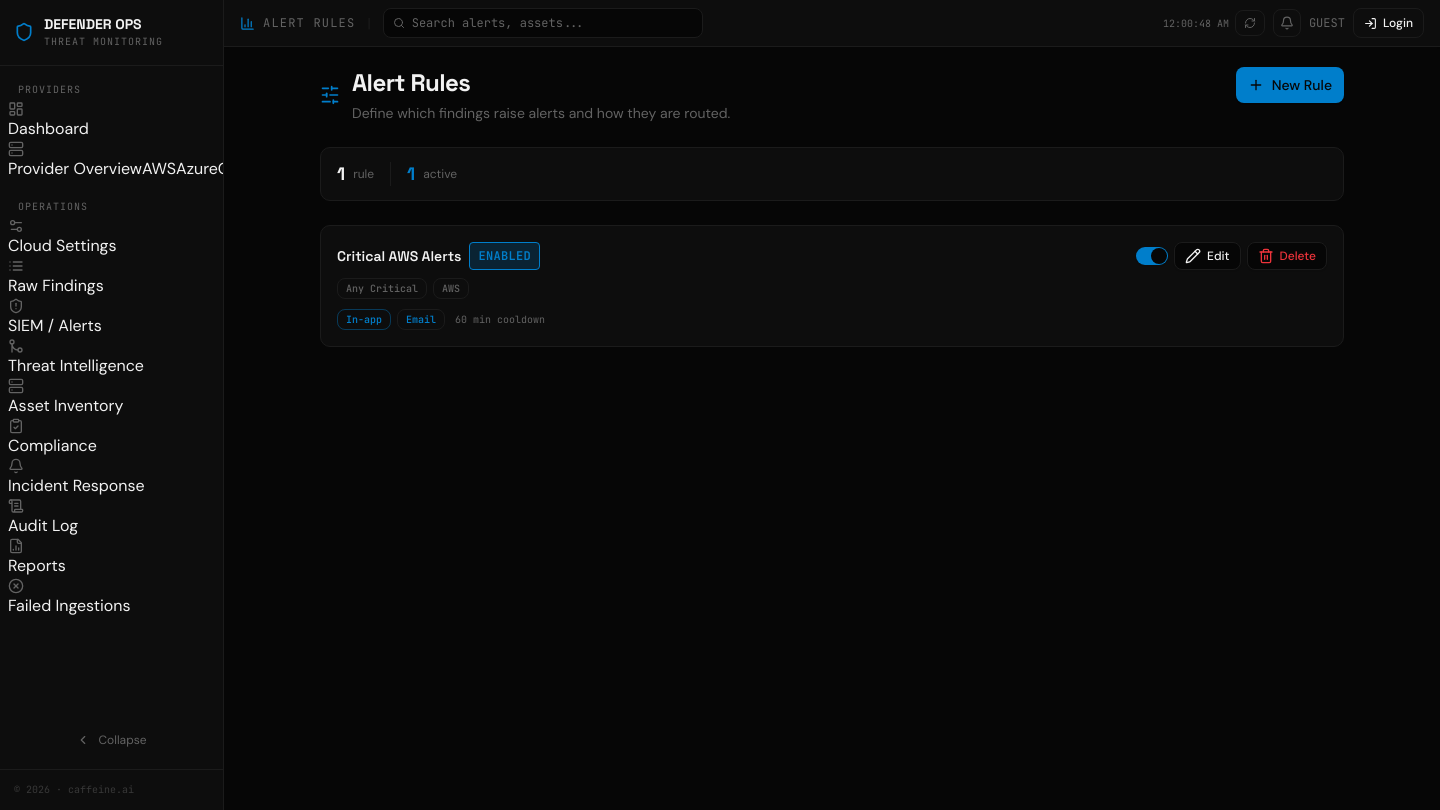
Test: AlertRulesPage rule builder (cover) › requires a name before saving a rule
Click the button with test id "alert_rules.create_button": (1290, 85) [1236,67,1344,103]
(page scrolled)
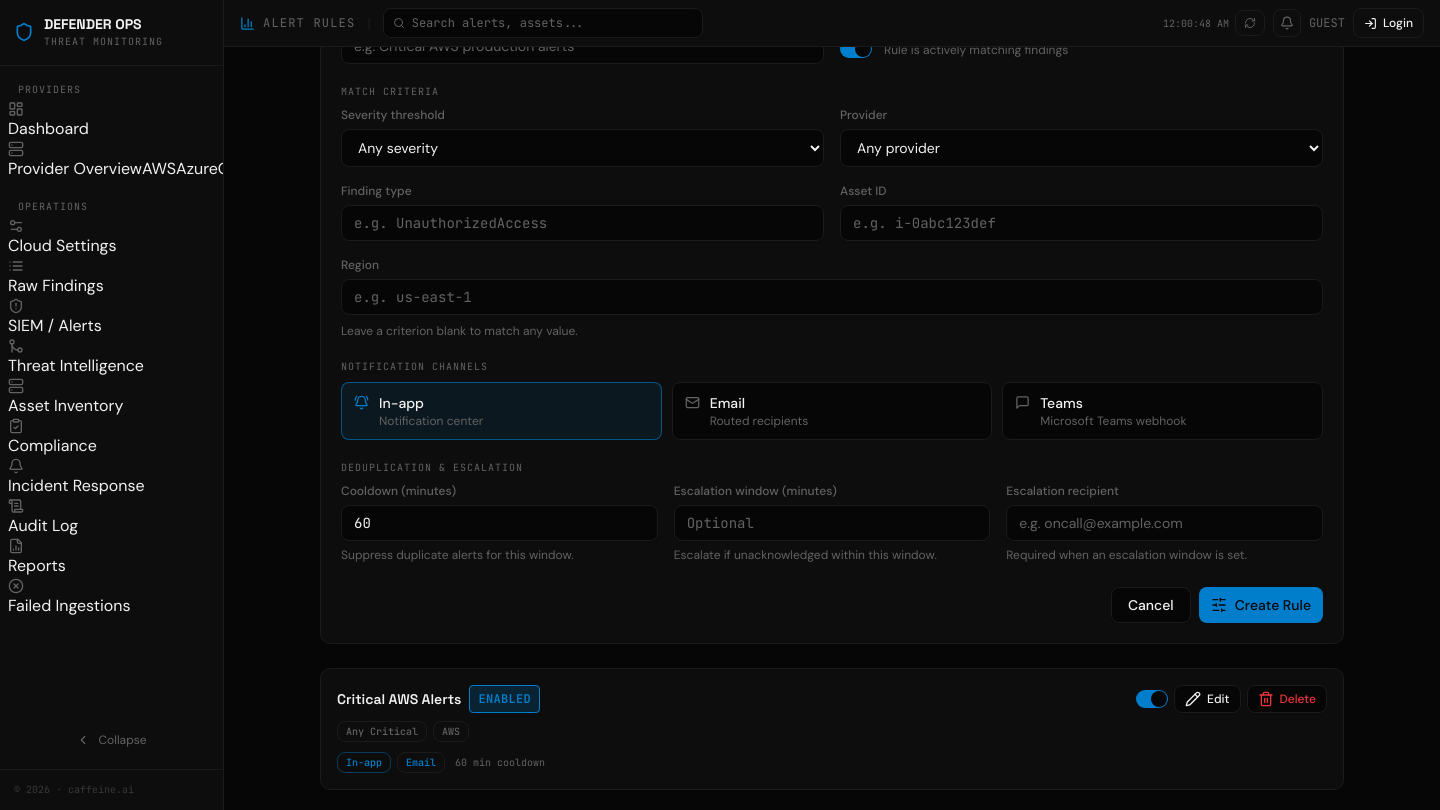
Click the button with test id "alert_rules.form.submit_button": (1261, 605) [1199,587,1323,623]
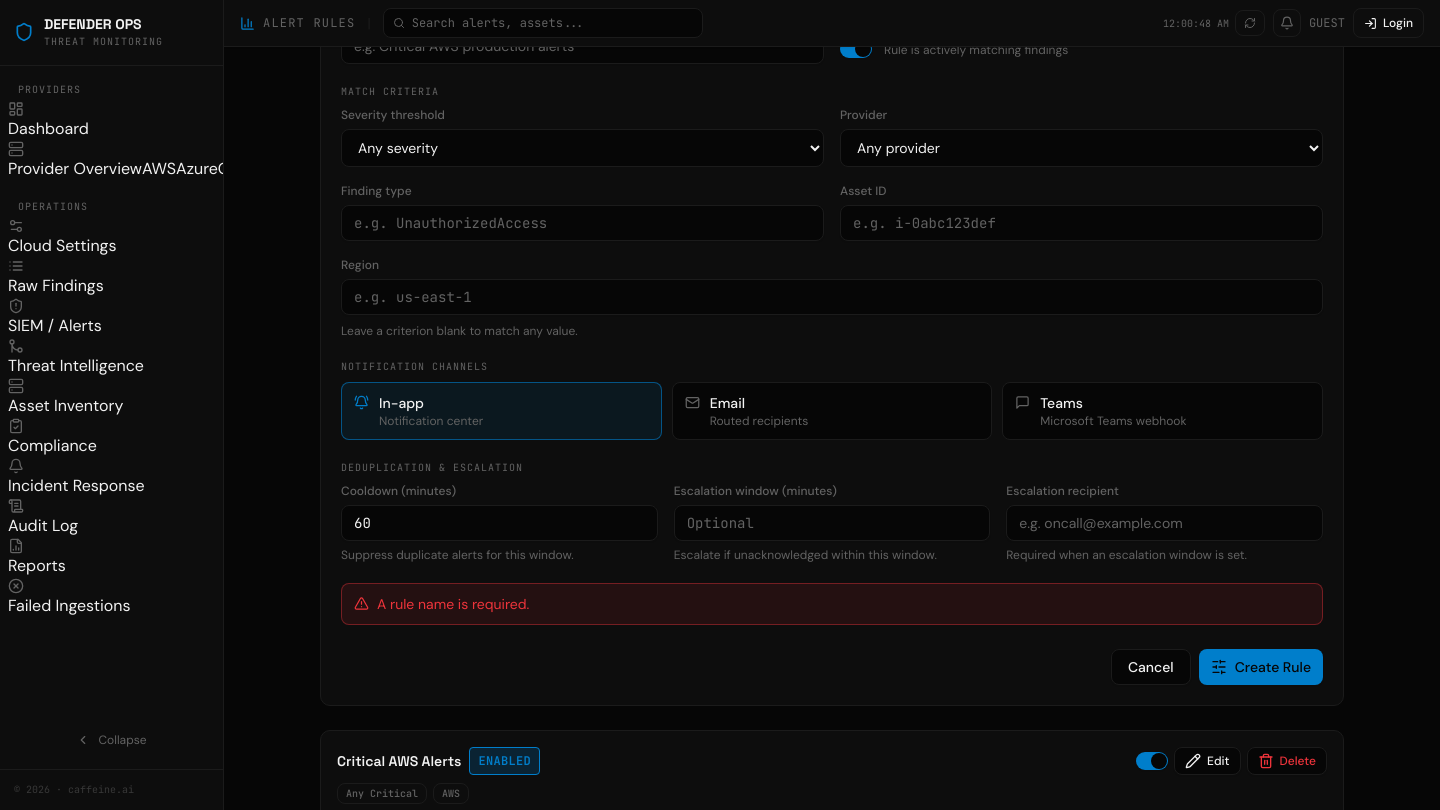
Now the message with test id "alert_rules.form.error_state" shows "name", box [377,595,529,613]
